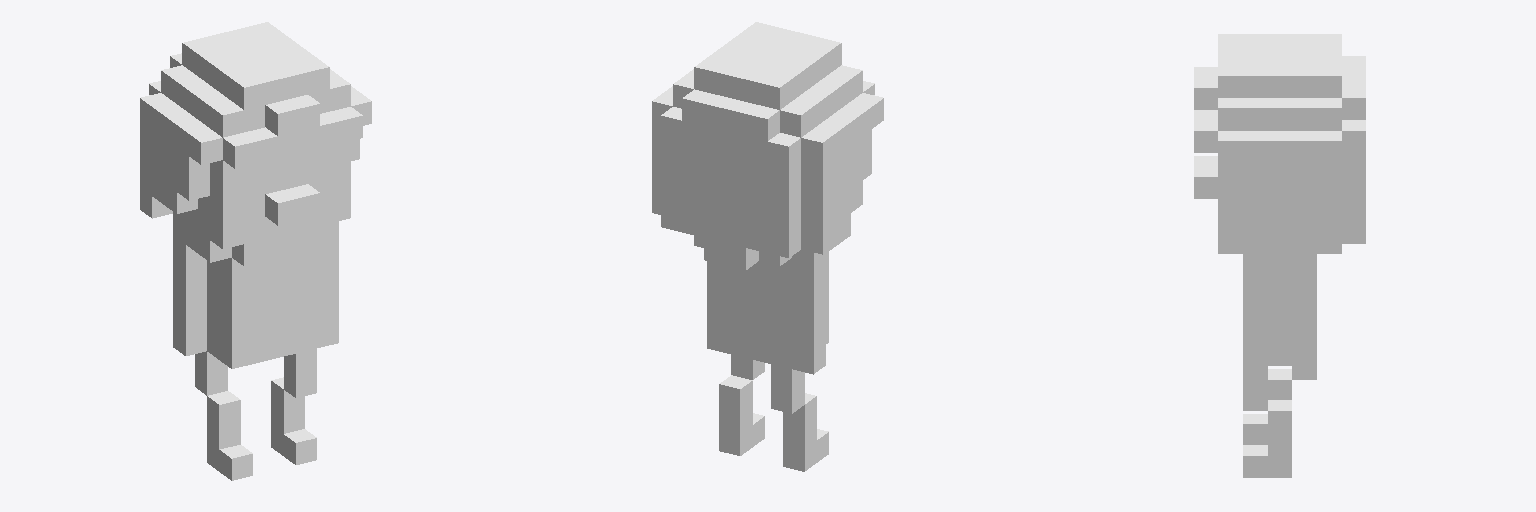
File: Runner-04.obj
3 views of the same model, side by side, from view 1: azimuth 30°, elevation 25°; view 2: azimuth 150°, elevation 25°; view 3: azimuth 270°, elevation 25° (orthographic).
Bounding box in the file's own units: 8 × 18 × 7.